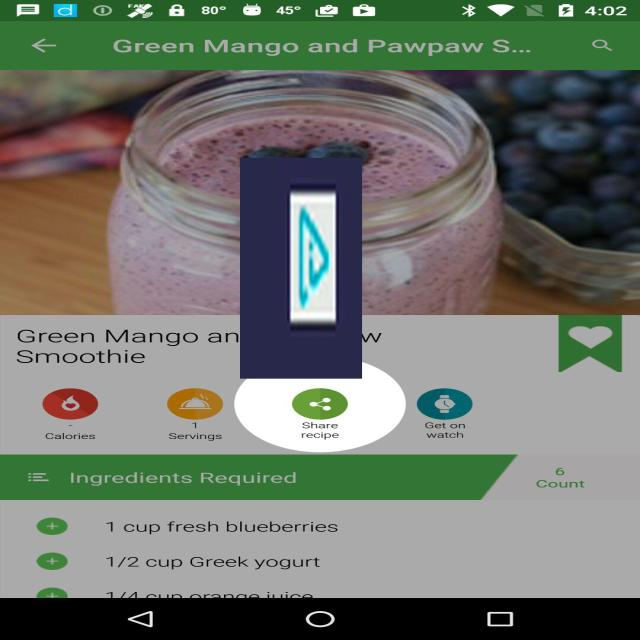sneaking: (240, 158, 362, 378)
